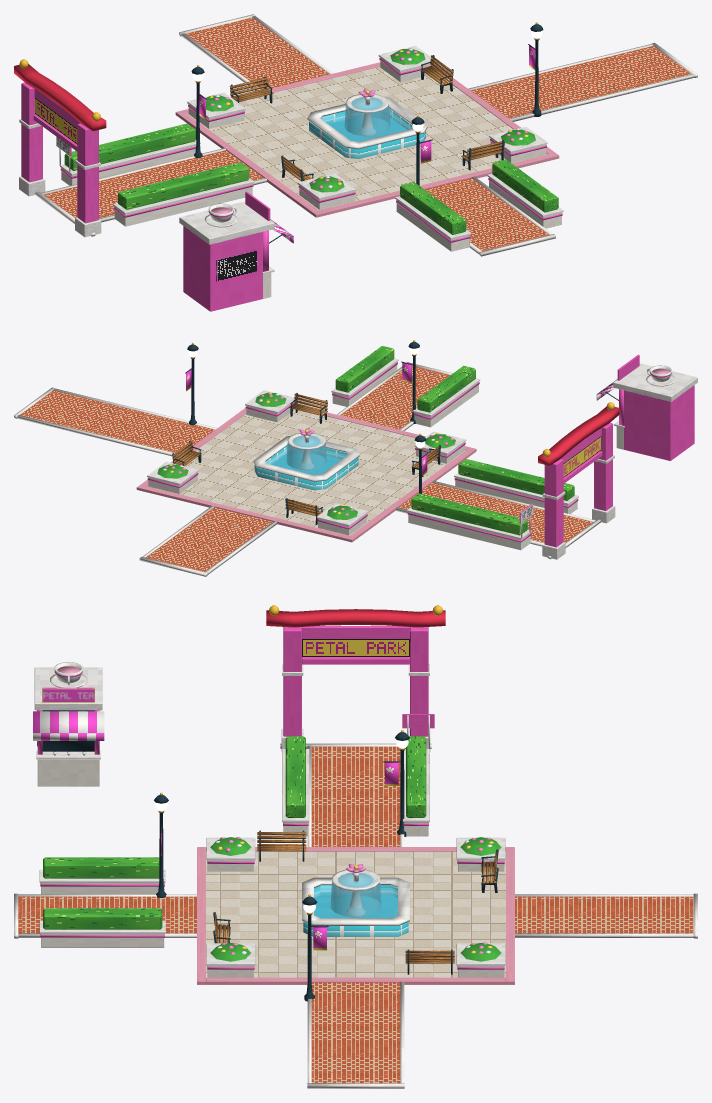
File: p_pj_park.glb
3 views of the same model, one above another, from view 1: azimuth 30°, elevation 25°; view 2: azimuth 150°, elevation 25°; view 3: azimuth 270°, elevation 25° (orthographic). The views are drawn at different scales.
Parts seen in each view (by area): view 1: p_pj_park_lod0; view 2: p_pj_park_lod0; view 3: p_pj_park_lod0.
Boxes of the visible parts, x1=… form: p_pj_park_lod0: x1=14, y1=14, x2=697, y2=311; p_pj_park_lod0: x1=14, y1=340, x2=697, y2=576; p_pj_park_lod0: x1=14, y1=605, x2=697, y2=1088.
Size of what is drawn, in the model's own units: 26.43 by 5.08 by 22.14.
3 materials, 1 textured.
